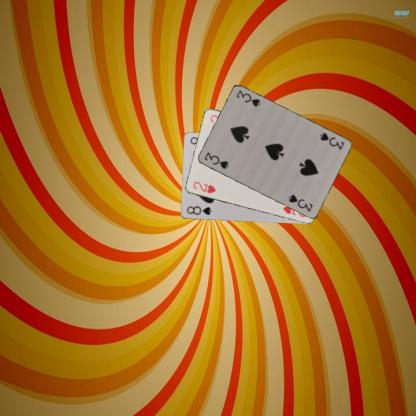2h: (190, 179, 217, 195)
3s: (201, 150, 229, 171), (317, 130, 345, 151)
8s: (184, 203, 212, 216)
